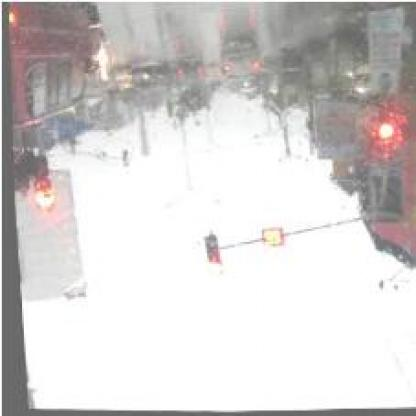red: (200, 234, 221, 275)
